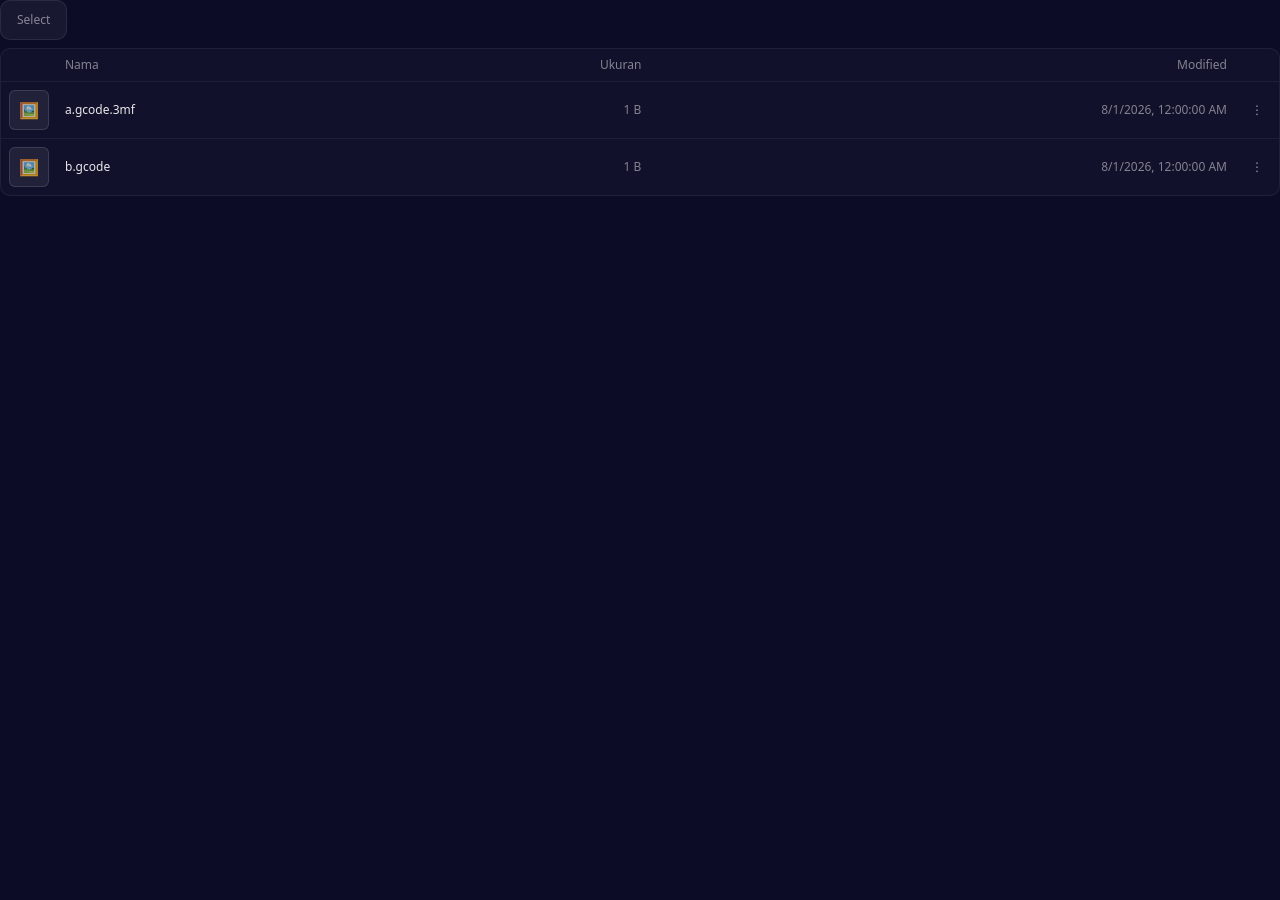
Scenario: FileManagerPanel › bulk delete: satu file gagal dihapus -> lanjut ke file lain, state reset, pesan error tampil
Expected: the text "a.gcode.3mf" is shown, [57, 82, 412, 138]
Click the button "Select".
click(34, 20)  # box [0, 0, 67, 40]
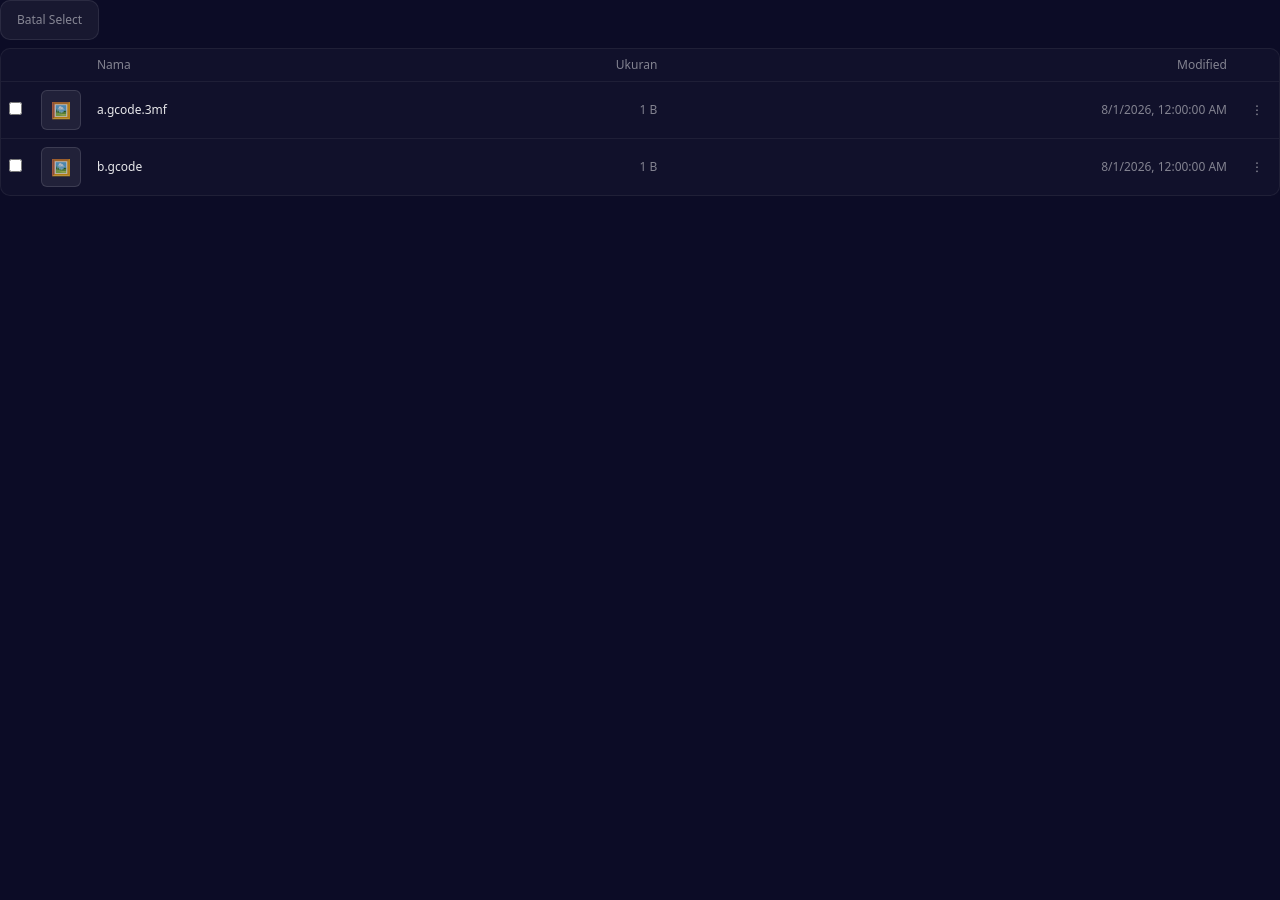
Click the checkbox named "a.gcode.3mf".
click(16, 108)  # box [9, 102, 22, 114]
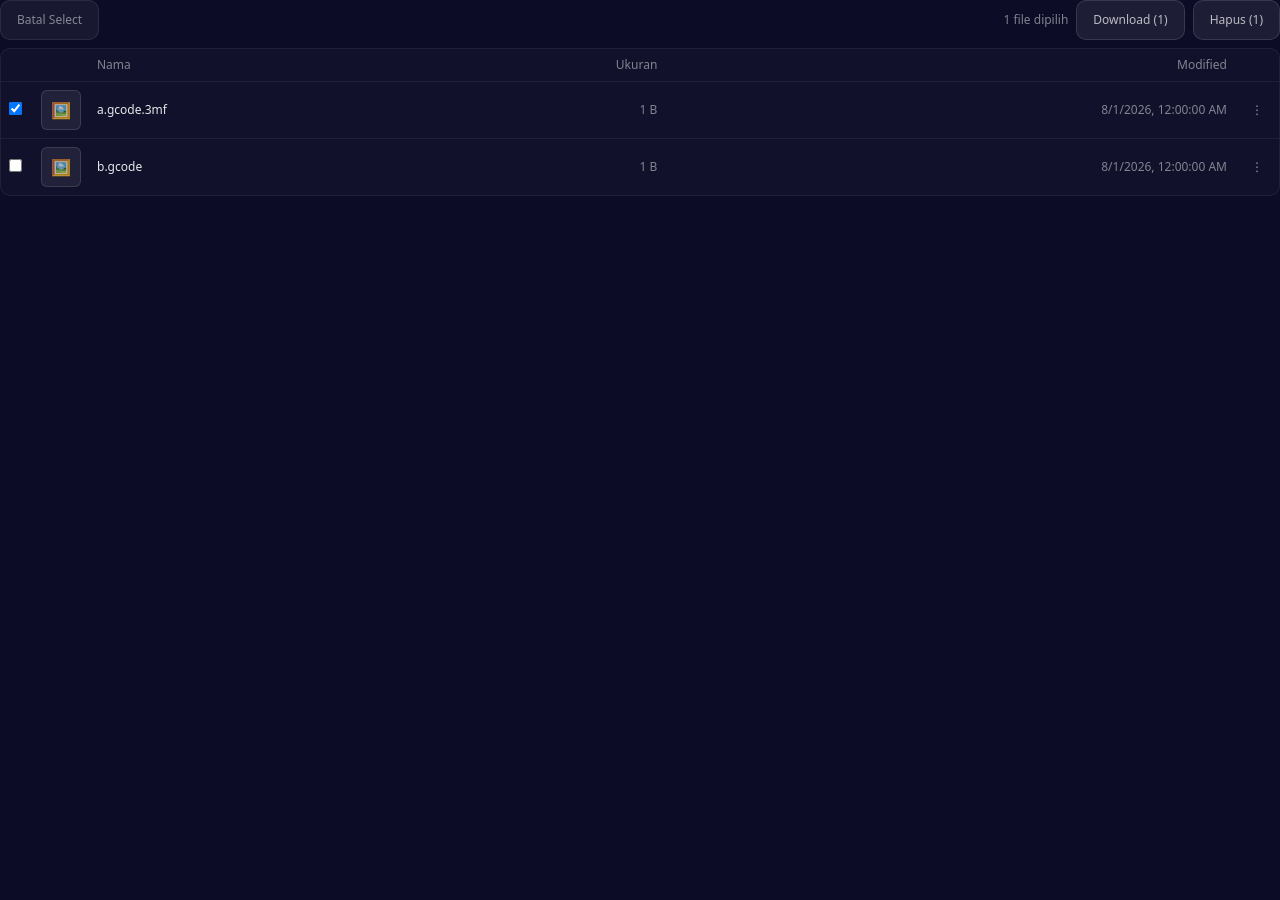
Click the checkbox named "b.gcode".
click(16, 165)  # box [9, 158, 22, 172]
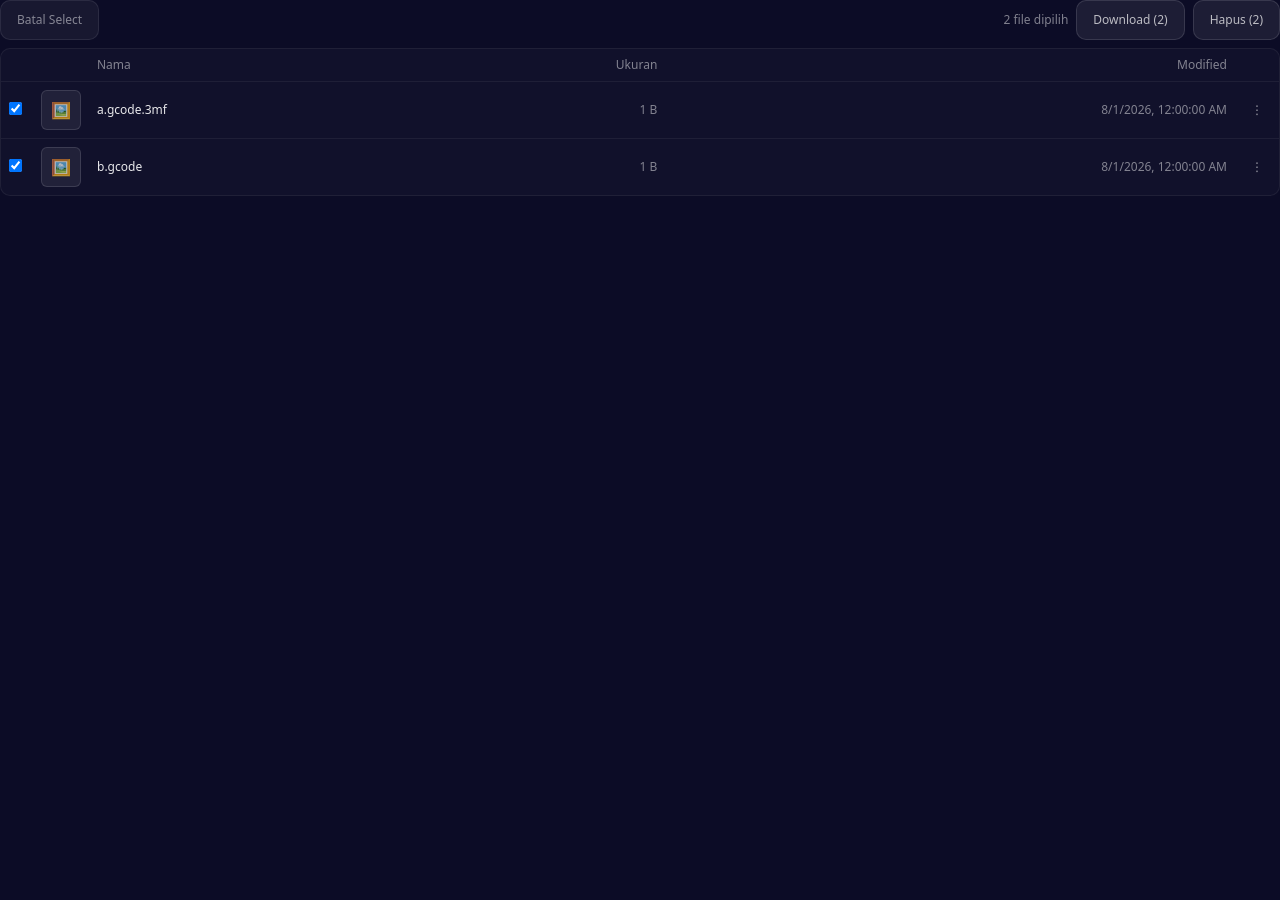
Click the button "Hapus (2)".
click(1236, 20)  # box [1193, 0, 1279, 40]
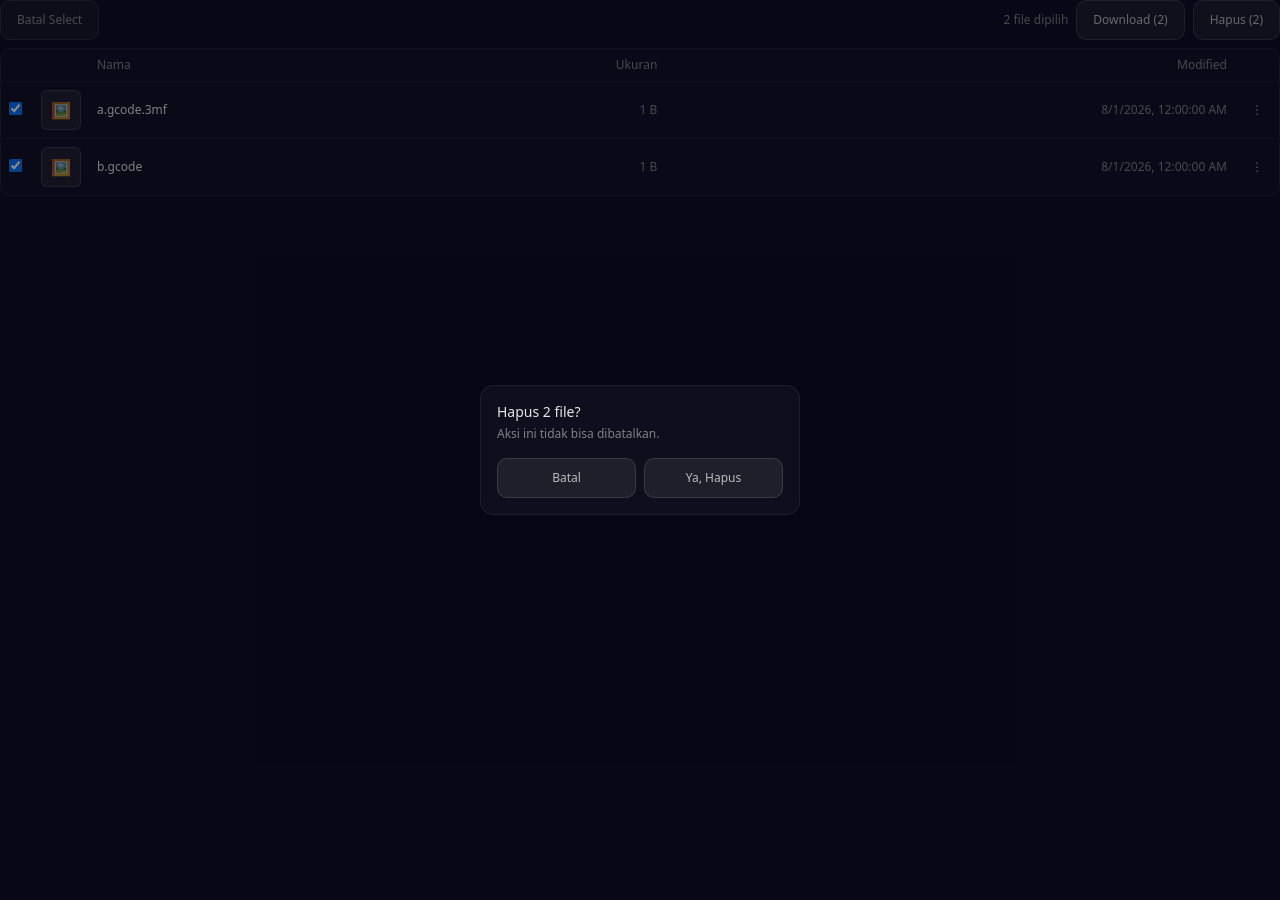
Click the button "Ya, Hapus".
click(714, 478)  # box [644, 458, 783, 498]
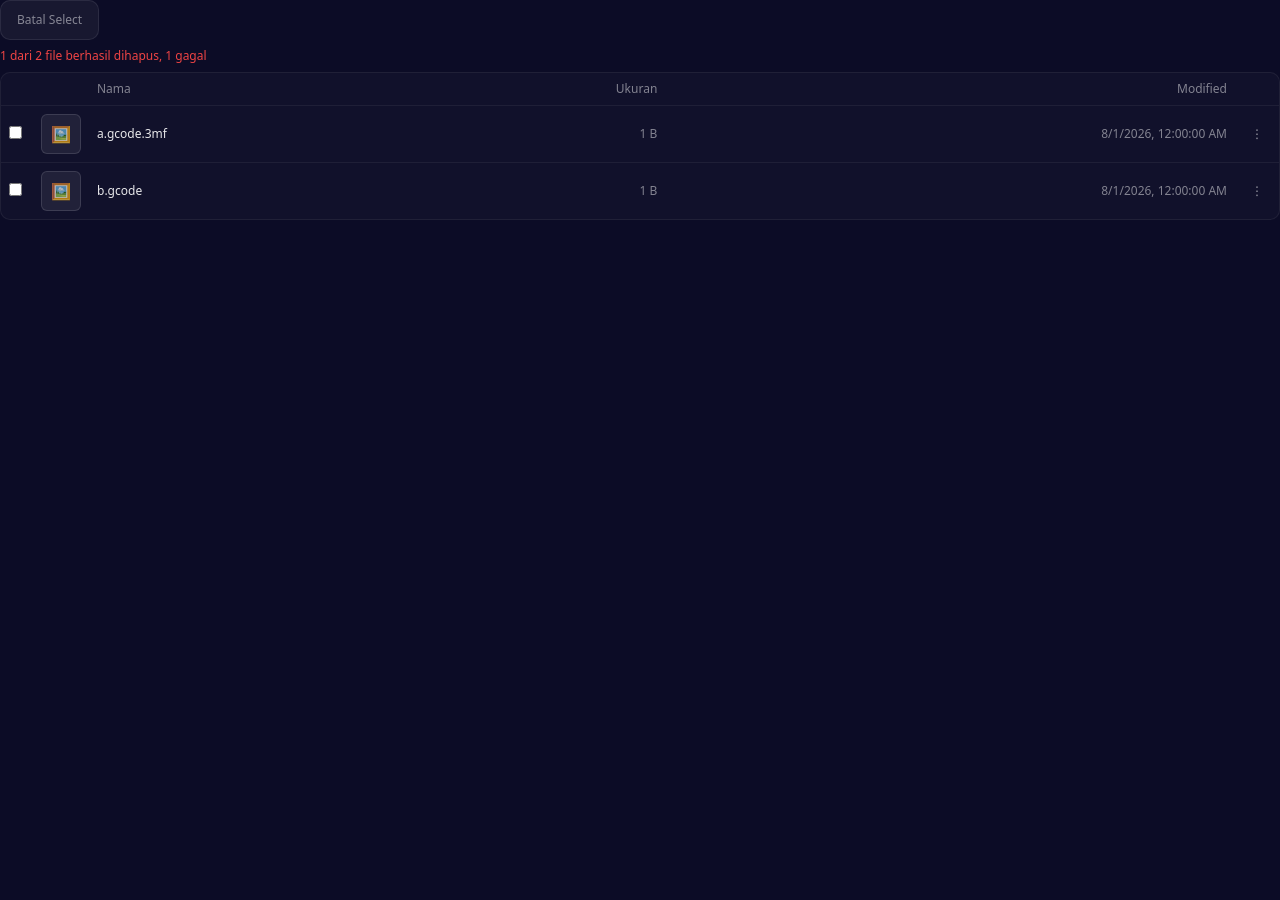
Result: the text "1 dari 2 file berhasil dihapus, 1 gagal" is shown at [0, 47, 207, 64]
